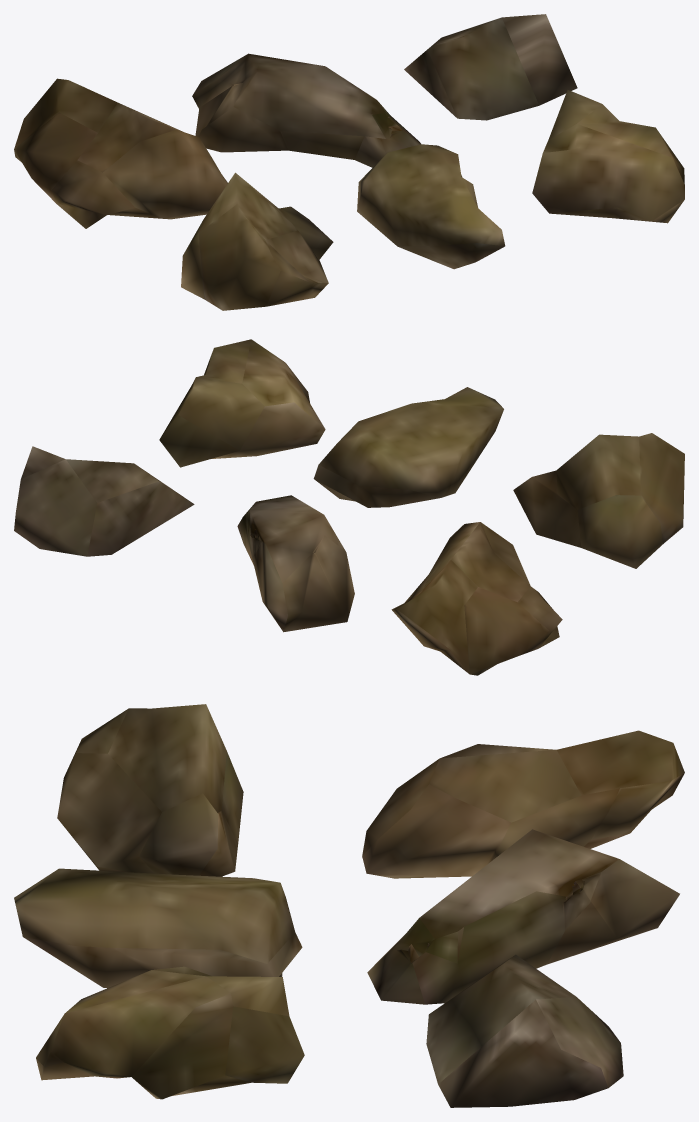
The model's file is rocher_mousse_lod2.glb.
The picture shows the model from 3 angles, top to bottom: view 1: azimuth 30°, elevation 25°; view 2: azimuth 150°, elevation 25°; view 3: azimuth 270°, elevation 25°; orthographic projection. The views are drawn at different scales.
Parts seen in each view (by area): view 1: rock_moss_set_01_rock01; view 2: rock_moss_set_01_rock01; view 3: rock_moss_set_01_rock01.
Part boxes in pixels (box(x1,y1,x2,y2)): rock_moss_set_01_rock01: box(14, 14, 684, 310); rock_moss_set_01_rock01: box(14, 339, 684, 675); rock_moss_set_01_rock01: box(14, 704, 684, 1107).
Bounding box in the file's own units: 7.92 × 1.73 × 6.79.
1 material, 1 textured.
